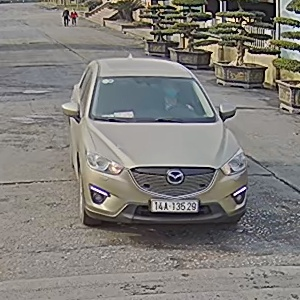vehicle plate: (148, 196, 199, 214)
